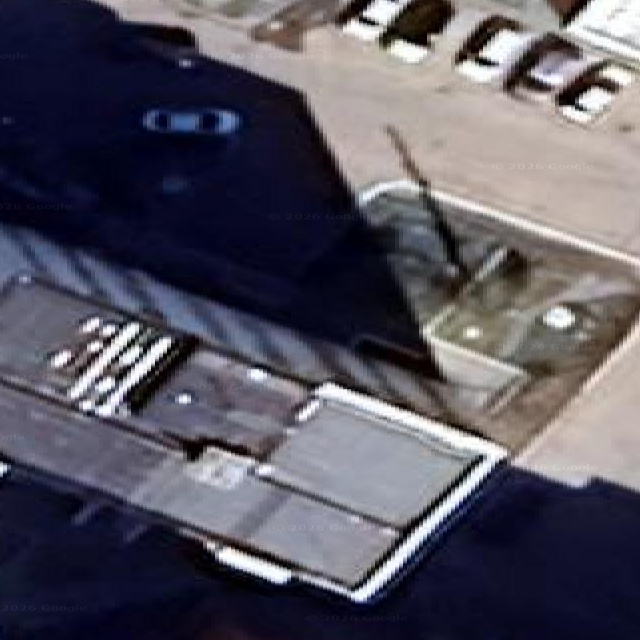car: (457, 16, 537, 80), (556, 63, 632, 123), (143, 108, 240, 135)
